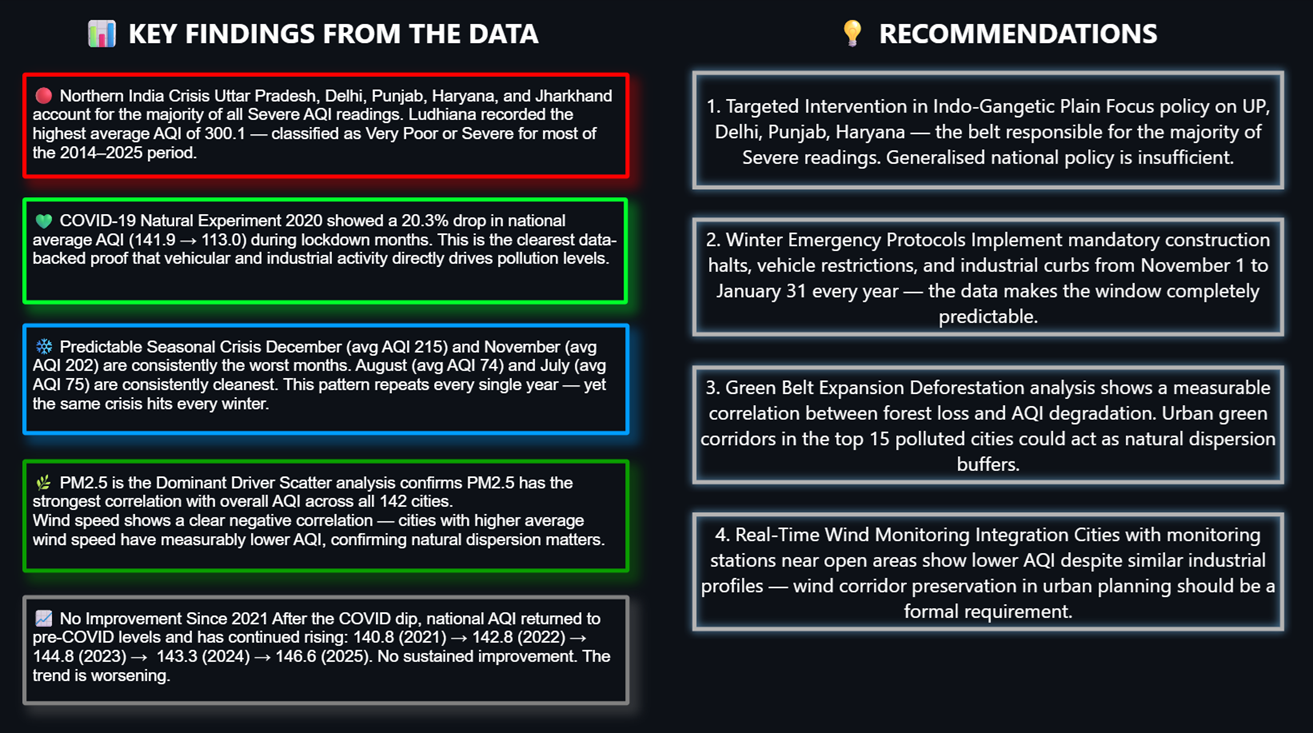

What the dashboard file says about the page in this screenshot:
{"tool":"powerbi","page":{"name":"Insights & Recommendations","canvas":[1280,720],"ordinal":5},"visuals":[{"type":"textbox","box":[52.9,10,502.9,62.9],"z":0},{"type":"textbox","box":[22.9,72.9,590,102.9],"z":1},{"type":"textbox","box":[22.9,194.3,588.6,104.3],"z":2},{"type":"textbox","box":[22.9,317.1,590,108.6],"z":3},{"type":"textbox","box":[22.9,448.6,590,110],"z":4},{"type":"textbox","box":[22.9,581.4,590,107.1],"z":5},{"type":"textbox","box":[718.6,10,502.9,62.9],"z":6},{"type":"shape","title":"1. Targeted Intervention in Indo-Gangetic Plain    Focus policy on UP, Delhi, Punjab, Haryana —     the belt responsible for the majority of Severe readings.     Generalised national policy is insuffi","box":[667.1,62.9,591.4,131.4],"z":7},{"type":"shape","title":"1. Targeted Intervention in Indo-Gangetic Plain    Focus policy on UP, Delhi, Punjab, Haryana —     the belt responsible for the majority of Severe readings.     Generalised national policy is insuffi","box":[667.1,205.7,591.4,131.4],"z":8},{"type":"shape","title":"1. Targeted Intervention in Indo-Gangetic Plain    Focus policy on UP, Delhi, Punjab, Haryana —     the belt responsible for the majority of Severe readings.     Generalised national policy is insuffi","box":[667.1,350,591.4,131.4],"z":9},{"type":"shape","title":"1. Targeted Intervention in Indo-Gangetic Plain    Focus policy on UP, Delhi, Punjab, Haryana —     the belt responsible for the majority of Severe readings.     Generalised national policy is insuffi","box":[667.1,492.9,591.4,131.4],"z":10}]}

Visuals, with their boxes in screenshot pixels (x1, y1, x2, y2), scaled from the page's 1280x720 canvas onto the 1313x733 screenshot:
textbox: 54 10 570 74
textbox: 23 74 629 179
textbox: 23 198 627 304
textbox: 23 323 629 433
textbox: 23 457 629 569
textbox: 23 592 629 701
textbox: 737 10 1253 74
"1. Targeted Intervention in Indo-Gangetic Plain    Focus policy on UP, Delhi, Punjab, Haryana —     the belt responsible for the majority of Severe readings.     Generalised national policy is insuffi" shape: 684 64 1291 198
"1. Targeted Intervention in Indo-Gangetic Plain    Focus policy on UP, Delhi, Punjab, Haryana —     the belt responsible for the majority of Severe readings.     Generalised national policy is insuffi" shape: 684 209 1291 343
"1. Targeted Intervention in Indo-Gangetic Plain    Focus policy on UP, Delhi, Punjab, Haryana —     the belt responsible for the majority of Severe readings.     Generalised national policy is insuffi" shape: 684 356 1291 490
"1. Targeted Intervention in Indo-Gangetic Plain    Focus policy on UP, Delhi, Punjab, Haryana —     the belt responsible for the majority of Severe readings.     Generalised national policy is insuffi" shape: 684 502 1291 636
